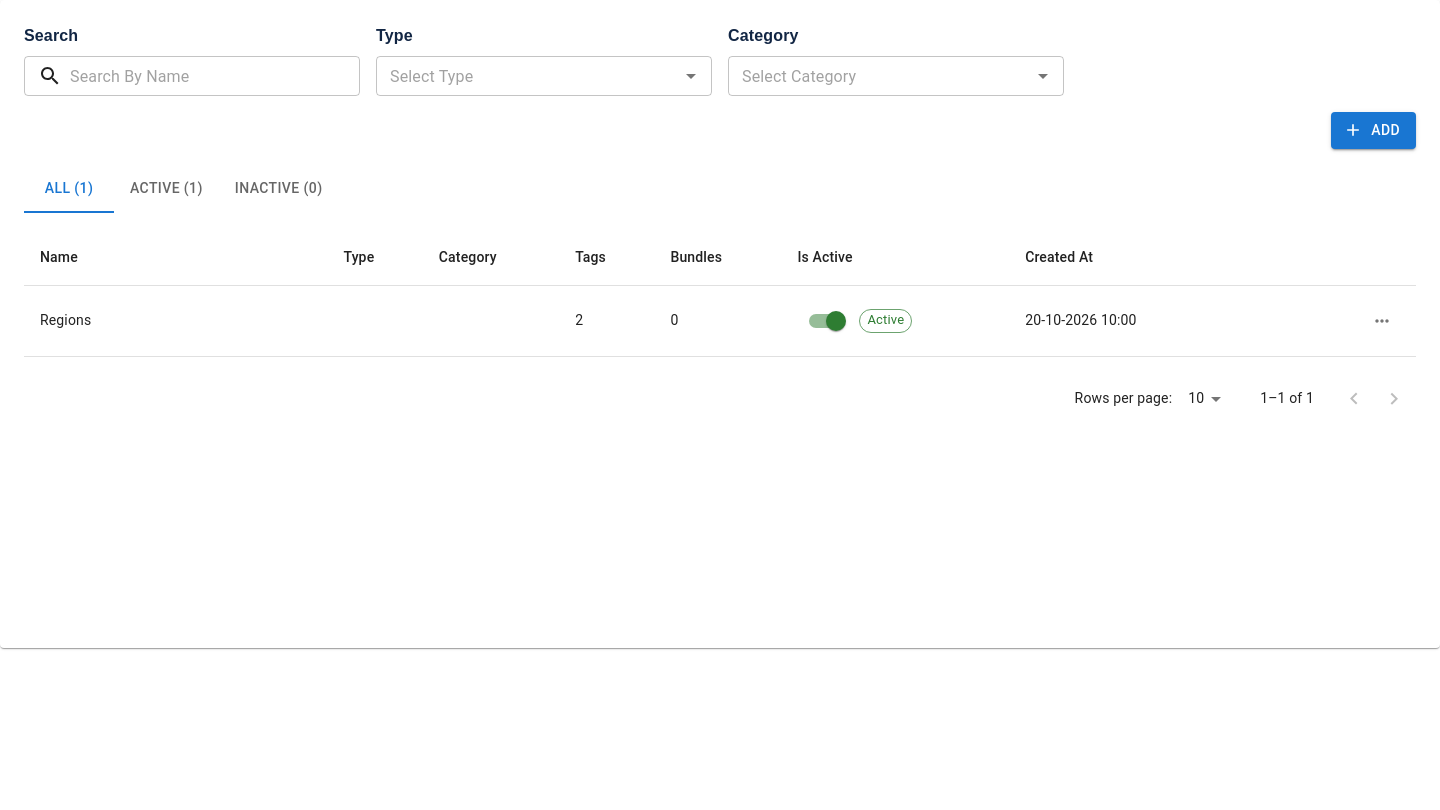
Test: Groups list › the status switch asks for confirmation (no reason), then PATCHes the opposite state and refreshes
Later steps or results of the test are not shown.
Expected: the text "Regions" is shown, [24, 285, 328, 356]
Step 1. Click the checkbox named "status of Regions" → {"x": 836, "y": 320}, box [826, 310, 846, 330]
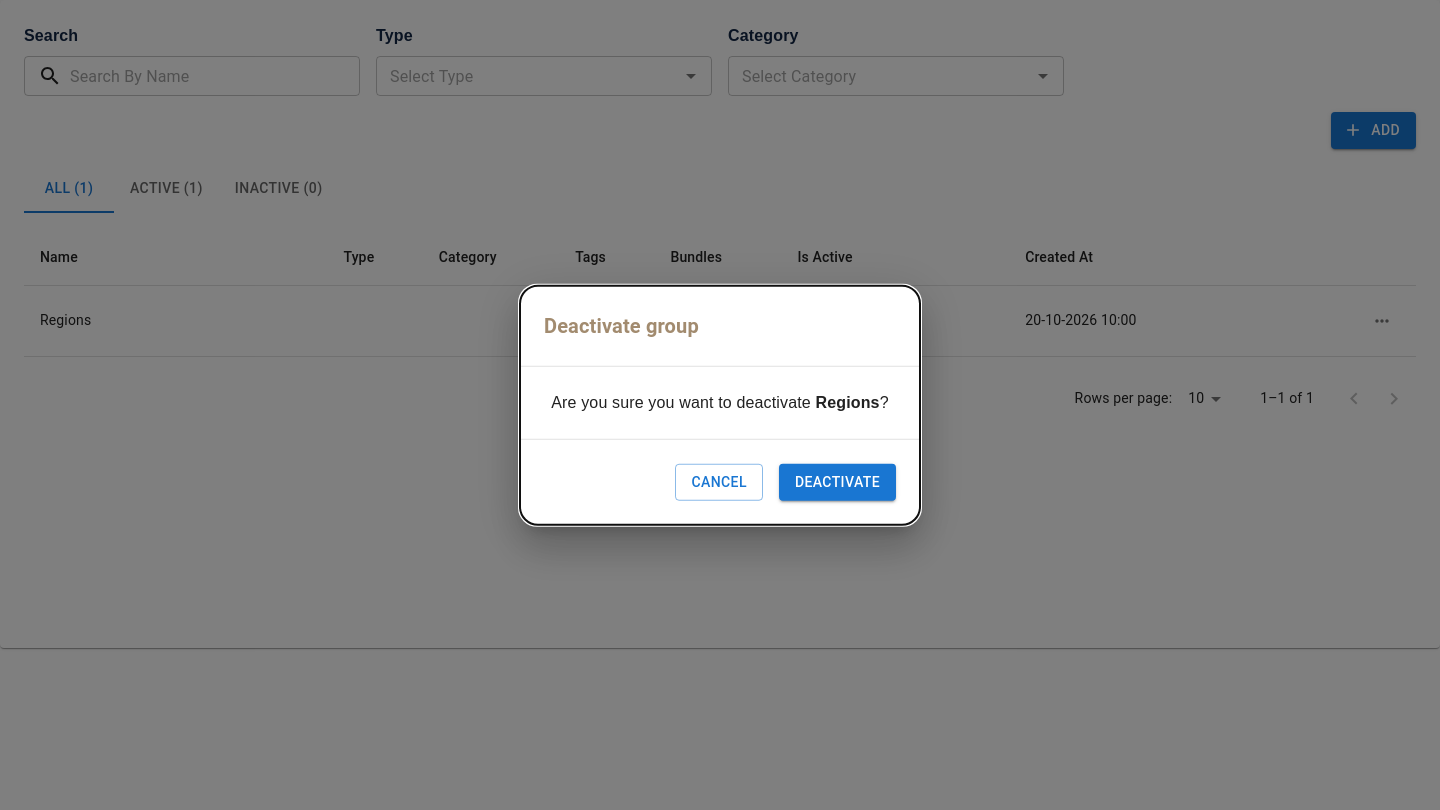
Expected: the text "Are you sure you want to deactivate Regions?" is shown, [544, 391, 896, 415]
